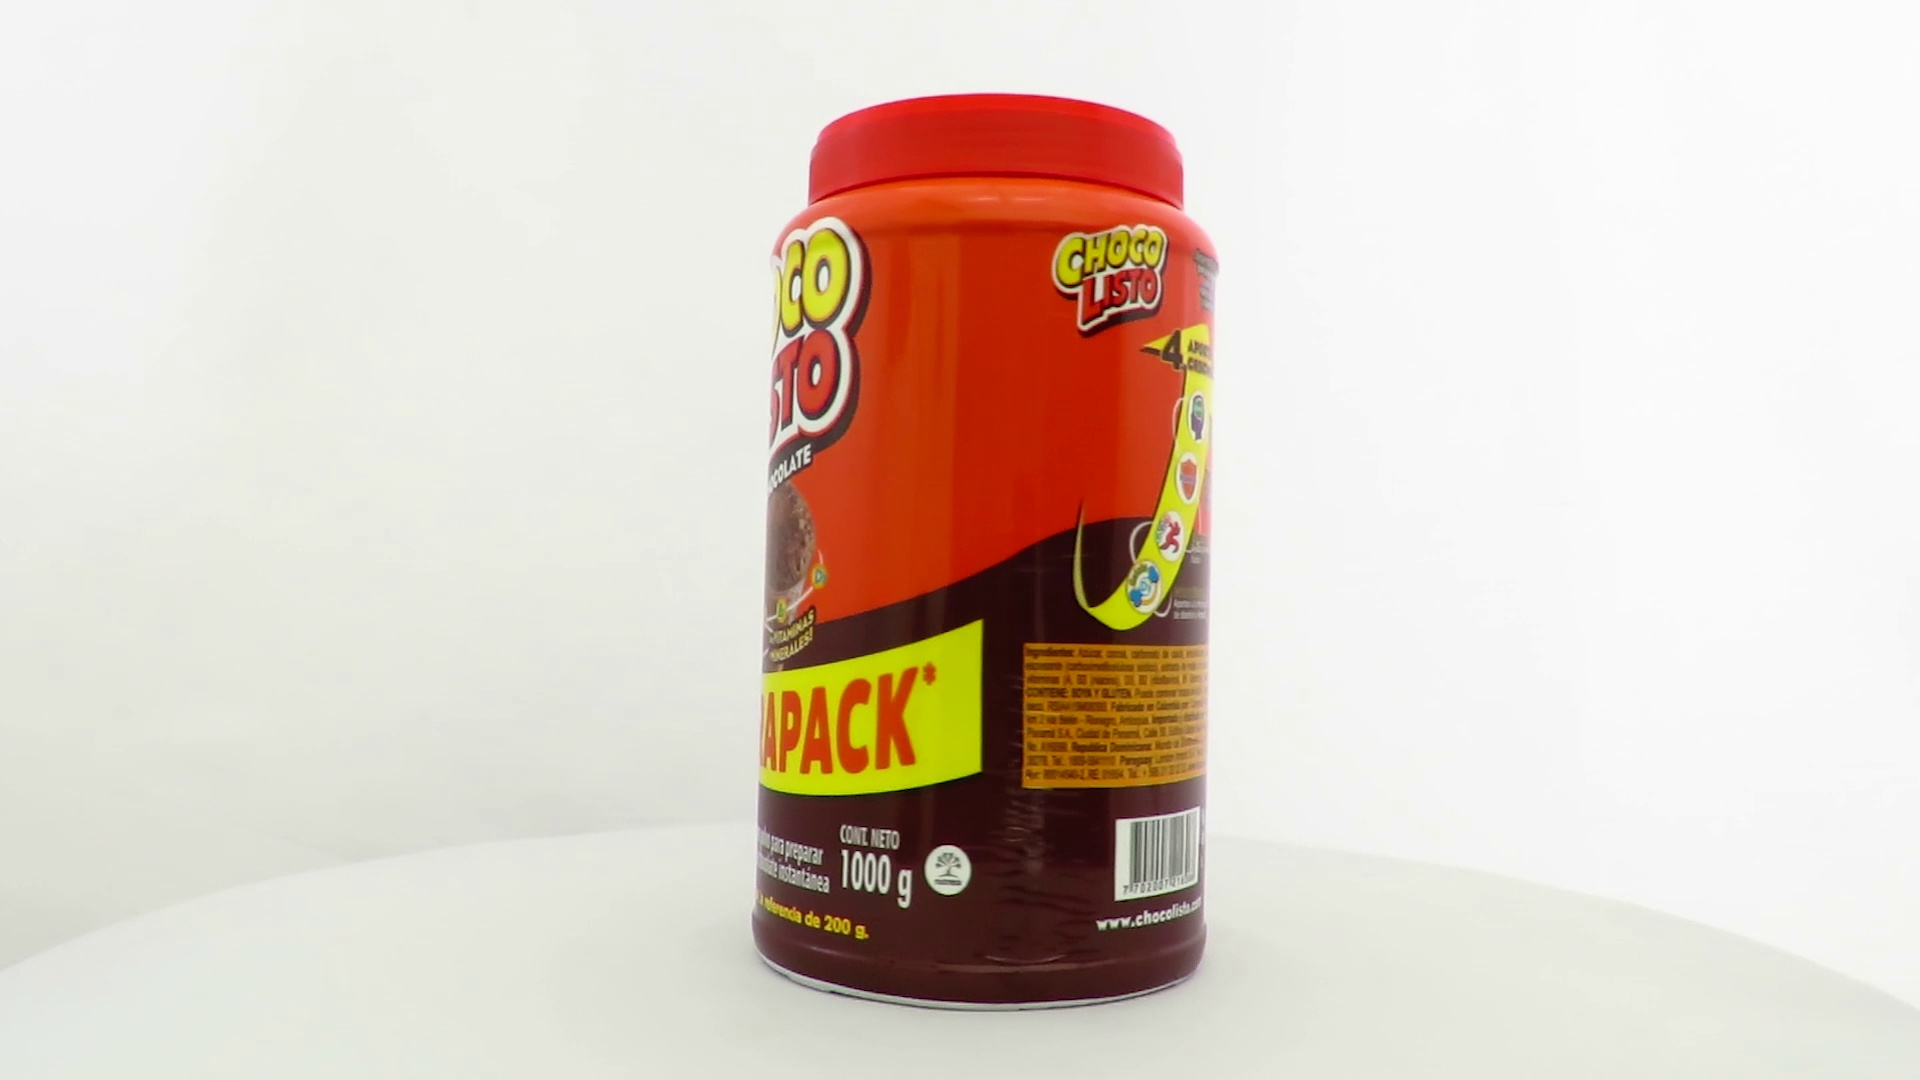COL0170103TRR00100: (746, 88, 1218, 1018)
